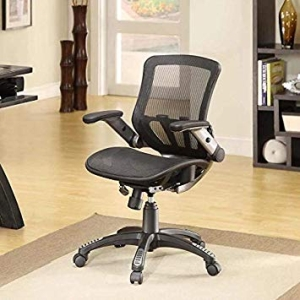chair: (73, 55, 225, 285)
